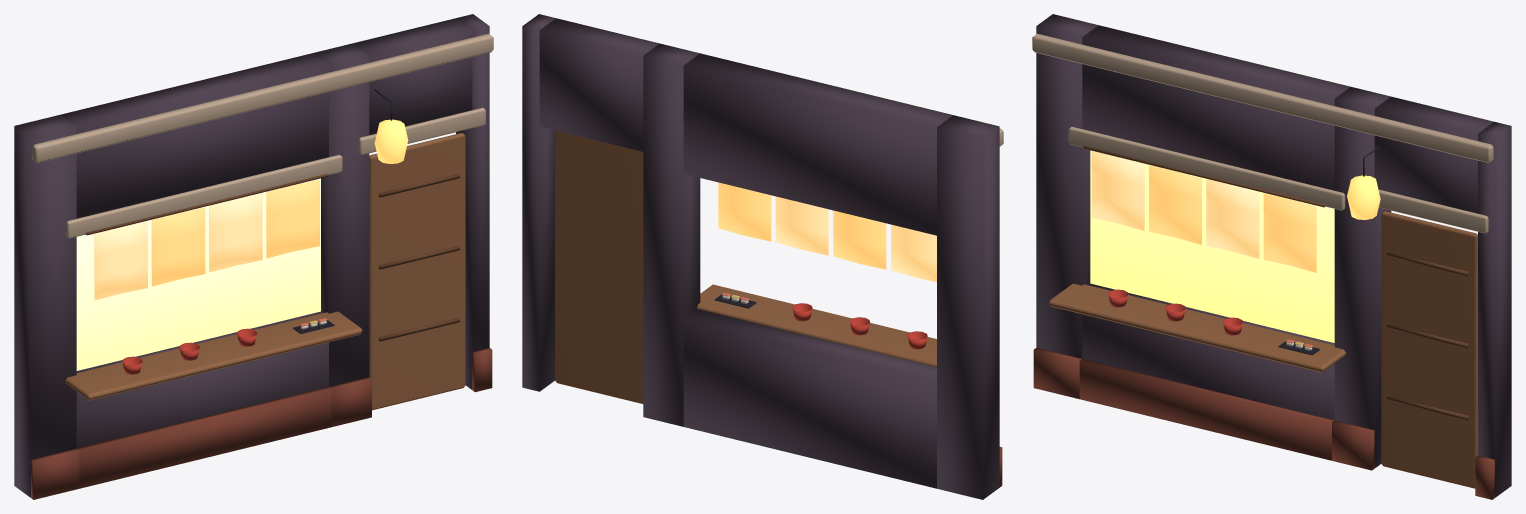
The model's file is ramen_window.glb.
3 views of the same model, side by side, from view 1: azimuth 30°, elevation 25°; view 2: azimuth 150°, elevation 25°; view 3: azimuth 330°, elevation 25° (orthographic).
Parts seen in each view (by area): view 1: ramen_window, door, noren; view 2: ramen_window, door, noren; view 3: ramen_window, door, noren.
Boxes of the visible parts, <box> form: ramen_window: <box>14,14,493,499</box>; door: <box>369,133,465,410</box>; noren: <box>85,174,327,300</box>; ramen_window: <box>522,14,1003,499</box>; door: <box>555,130,643,403</box>; noren: <box>718,182,936,282</box>; ramen_window: <box>1032,14,1511,499</box>; door: <box>1381,211,1477,488</box>; noren: <box>1083,146,1325,272</box>.
Size of the model in its own units: 4 by 3 by 0.63.
